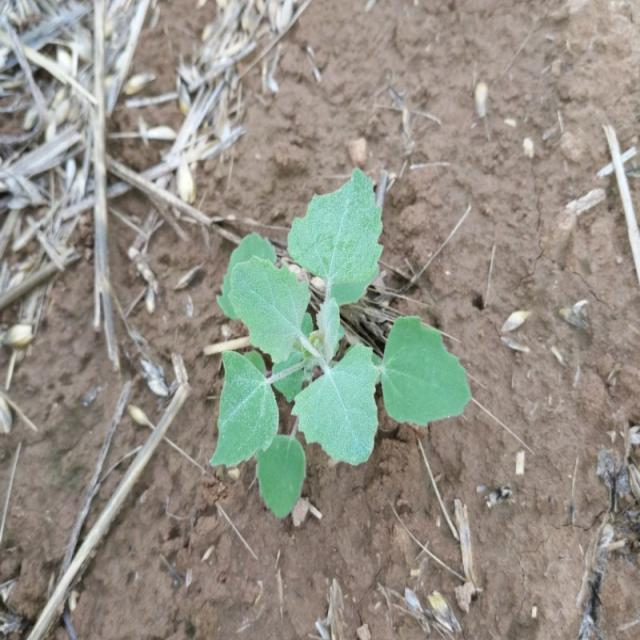goosefoots: (188, 190, 450, 512)
